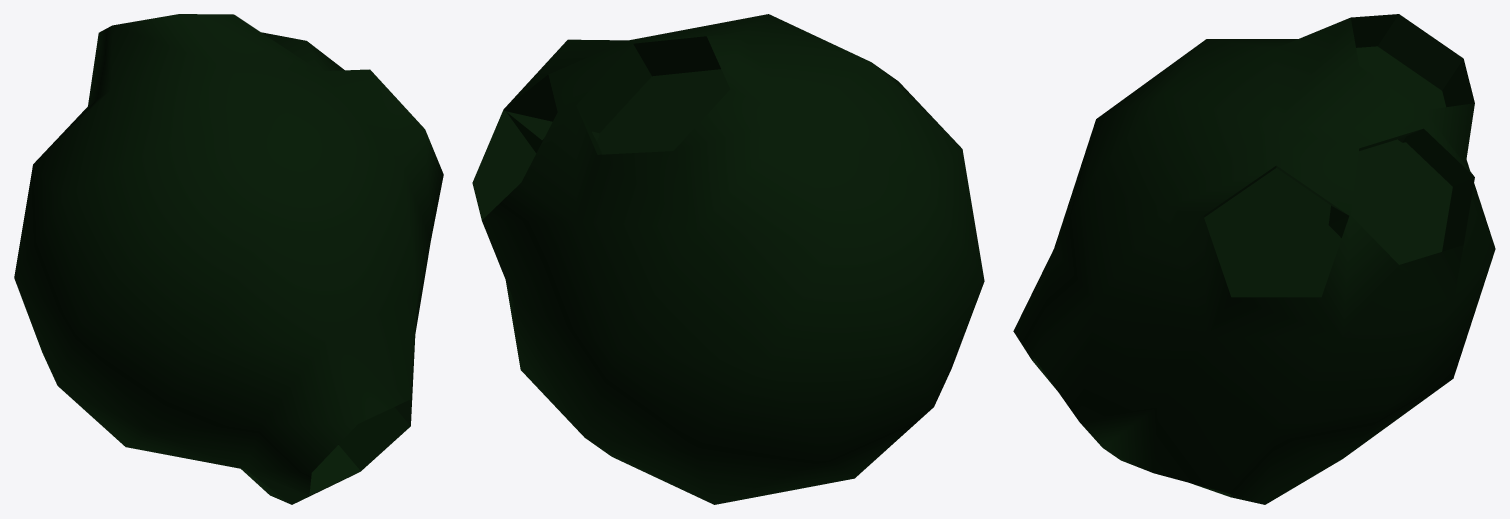
3 renders of one model, left to right at view 1: azimuth 30°, elevation 25°; view 2: azimuth 150°, elevation 25°; view 3: azimuth 270°, elevation 25°, orthographic. The views are drawn at different scales.
Parts seen in each view (by area): view 1: GeoSphere001; view 2: GeoSphere001; view 3: GeoSphere001.
Part boxes in pixels (bbox=[...]): GeoSphere001: bbox=[14, 14, 443, 504]; GeoSphere001: bbox=[472, 14, 984, 504]; GeoSphere001: bbox=[1013, 14, 1495, 504].
Size of the model in its own units: 76.8 by 87.29 by 82.35.
